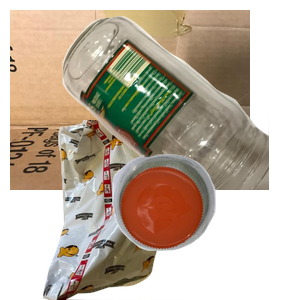cardboard: (10, 10, 250, 190)
glass: (60, 14, 300, 194)
plastic: (110, 152, 300, 300)
trash: (25, 120, 198, 300)
